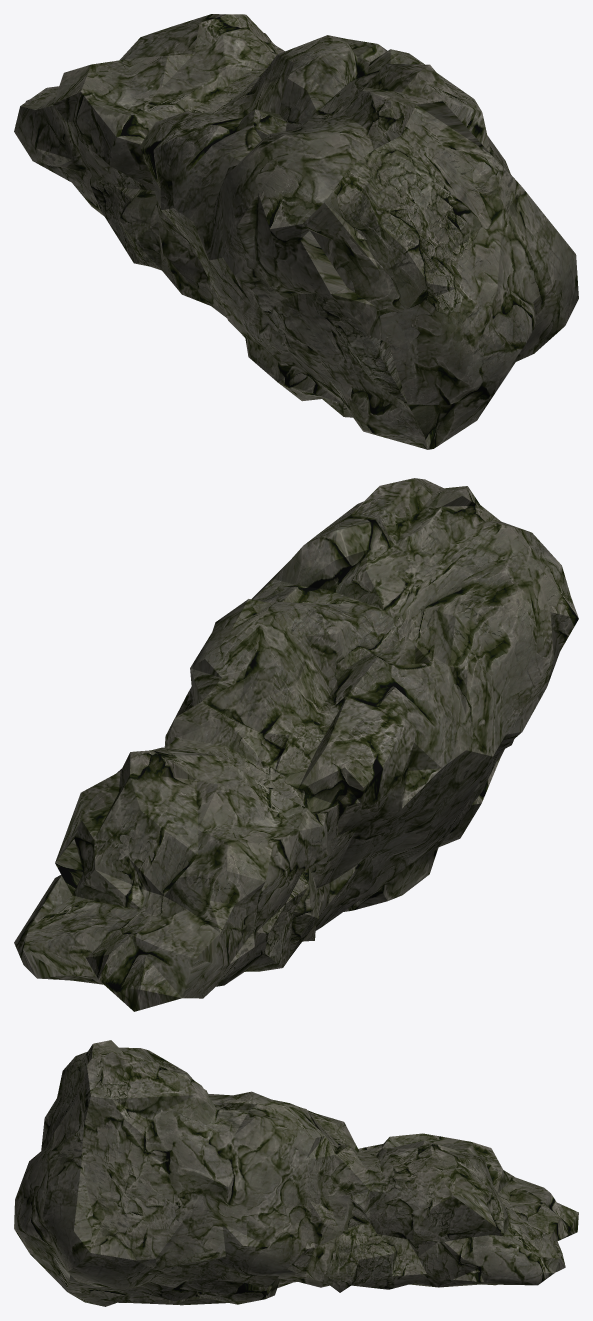
File: TI_Cliff_03_b_LOD_01.fbx
3 renders of one model, top to bottom at view 1: azimuth 30°, elevation 25°; view 2: azimuth 150°, elevation 25°; view 3: azimuth 270°, elevation 25°, orthographic. The views are drawn at different scales.
Parts seen in each view (by area): view 1: TI_Cliff_03_b_LOD_01; view 2: TI_Cliff_03_b_LOD_01; view 3: TI_Cliff_03_b_LOD_01.
Boxes of the visible parts, bbox=[...] form: TI_Cliff_03_b_LOD_01: bbox=[14, 14, 578, 449]; TI_Cliff_03_b_LOD_01: bbox=[14, 478, 578, 1011]; TI_Cliff_03_b_LOD_01: bbox=[14, 1040, 578, 1306].
Bounding box in the file's own units: 3.94 × 4.53 × 8.87.
